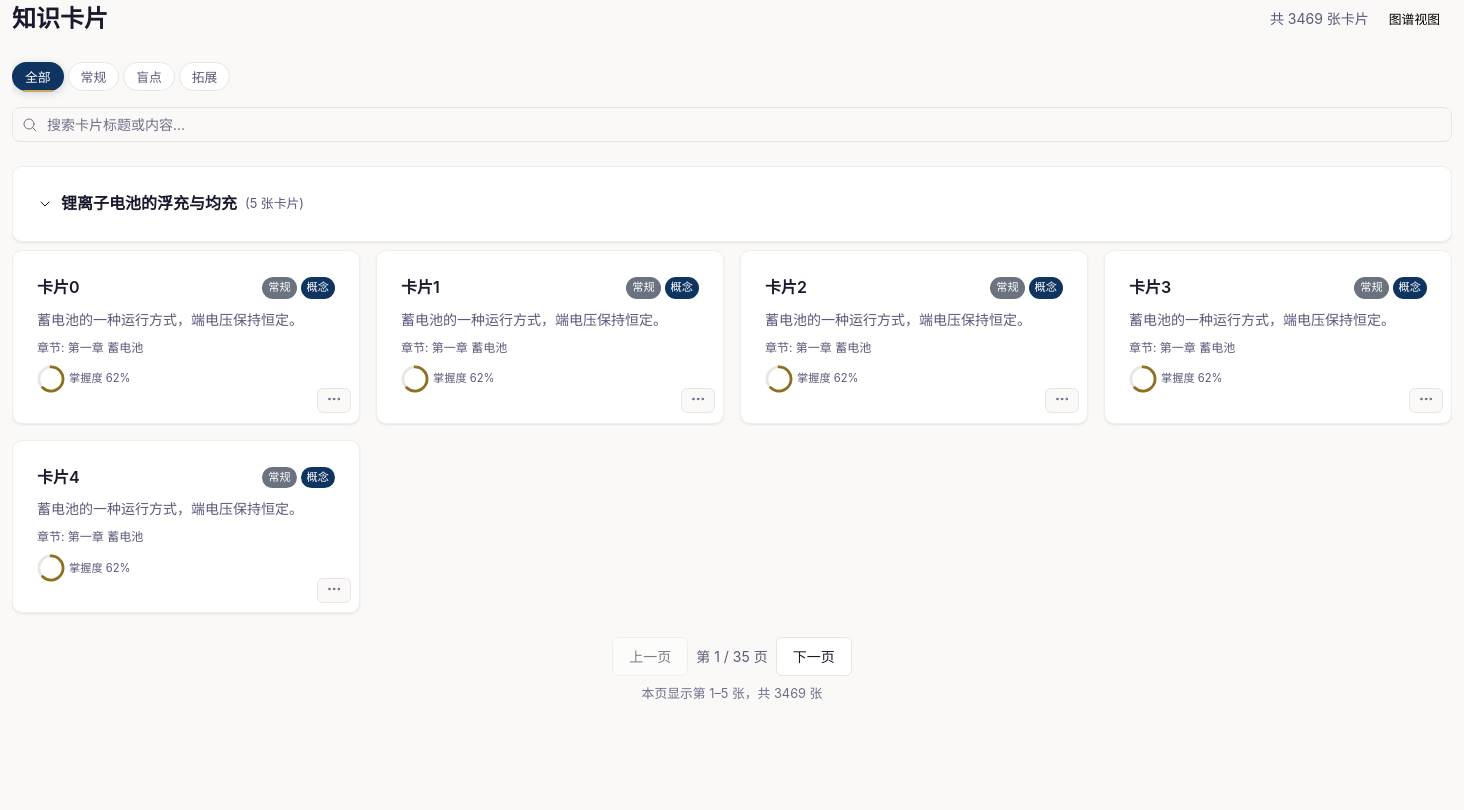
Test: 知识卡片列表：服务端分页 › ★ 超过一页时出现分页控件，翻页后请求第 2 页
Check: the link "卡片0" is shown, box [37,277,80,297]
Check: the navigation bar named "知识卡片分页" is shown, box [612,637,852,676]
// 翻到第 2 页：请求页码跟着变，页尾数字也跟着变
Click the button "下一页".
click(814, 657)  # box [776,637,852,676]
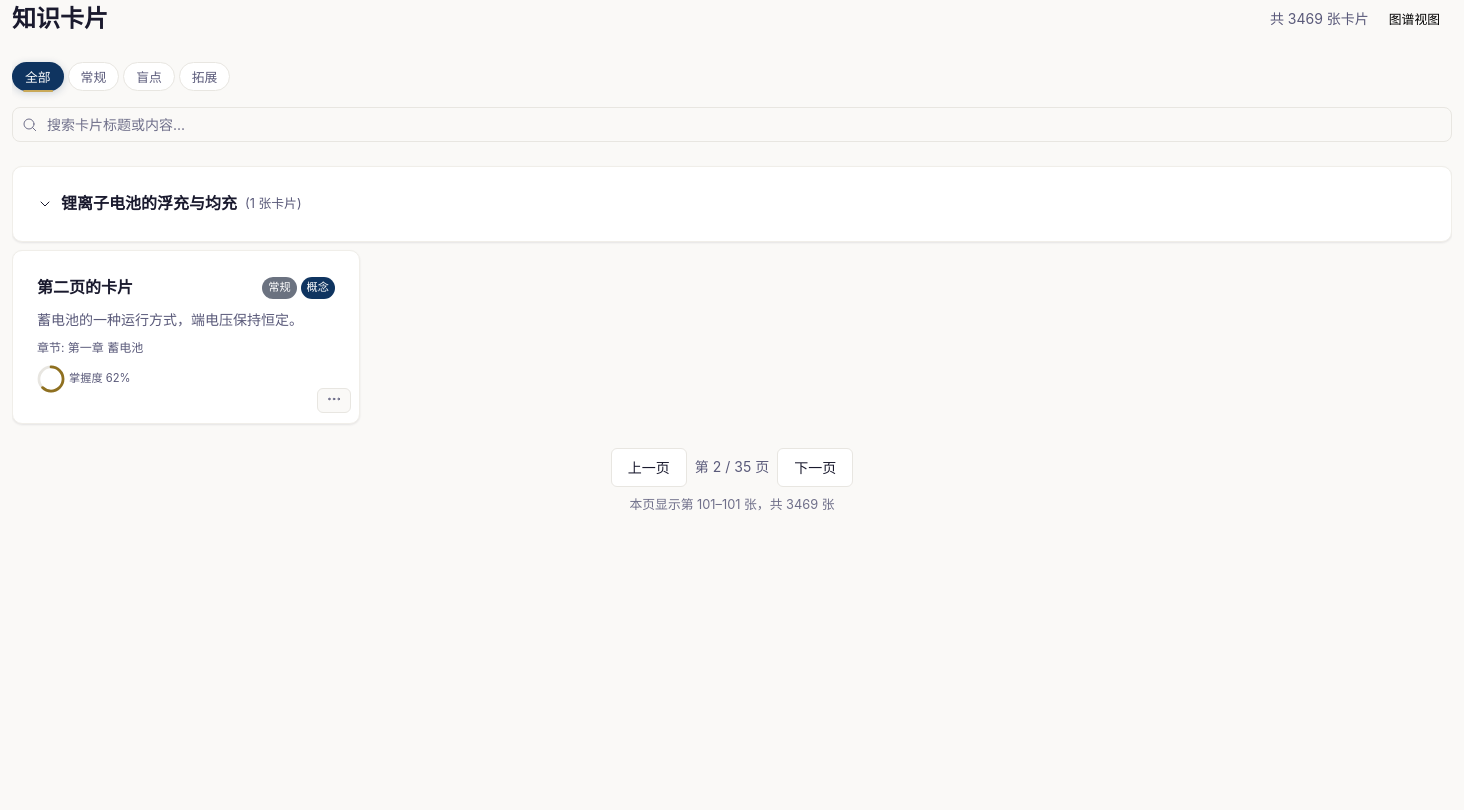
Check: the link "第二页的卡片" is shown, box [37,277,133,297]
Check: the text "第 2 / 35 页" is shown, box [695,456,769,478]
Check: the text "本页显示第 101–101 张，共 3469 张" is shown, box [630,497,834,512]
